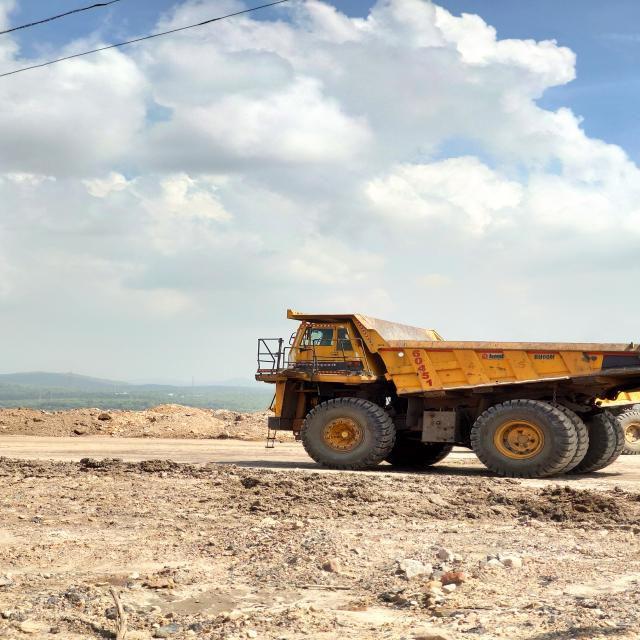dump_truck: (256, 312, 640, 480)
